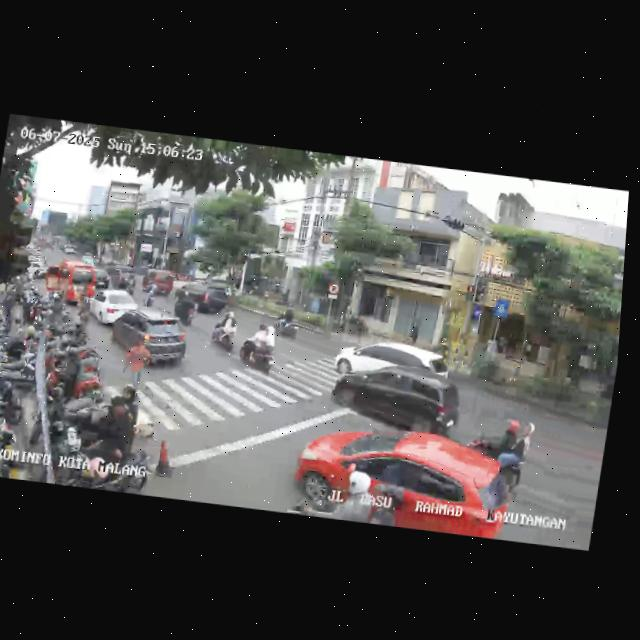car: (288, 418, 516, 539), (332, 356, 455, 439), (334, 334, 452, 388), (110, 310, 191, 374), (40, 258, 96, 307), (85, 285, 141, 329), (176, 280, 228, 316), (140, 266, 176, 298), (106, 262, 138, 292), (91, 268, 111, 288)
motorcycle: (285, 461, 408, 526), (458, 415, 535, 505), (236, 321, 281, 377), (207, 308, 240, 354), (272, 305, 306, 340), (173, 288, 198, 328), (143, 280, 159, 309)
person: (115, 331, 156, 393), (99, 392, 136, 460), (117, 385, 141, 425)
